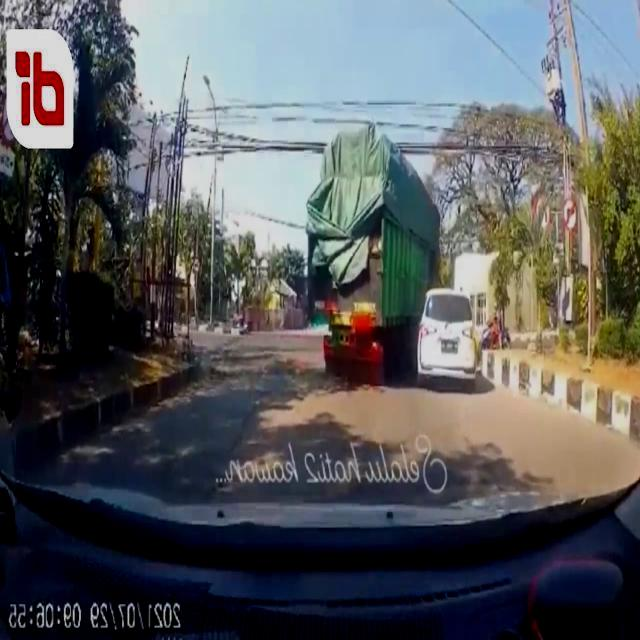accident: (307, 119, 481, 393)
